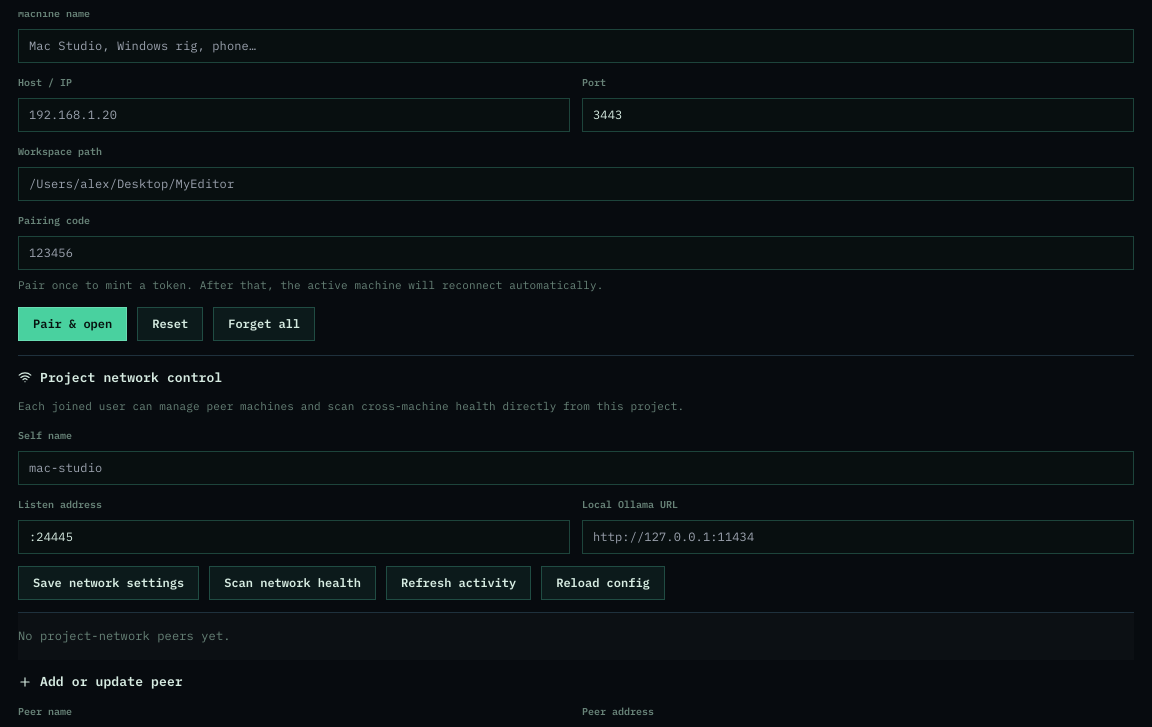
Test case: MachineConnectionsPanel workflows › CancelButton_DraftFormReset
(page scrolled)
Type "10.0.0.99" into the field with placeholder "192.168.1.20" at (294, 115), box [18,98,570,132]
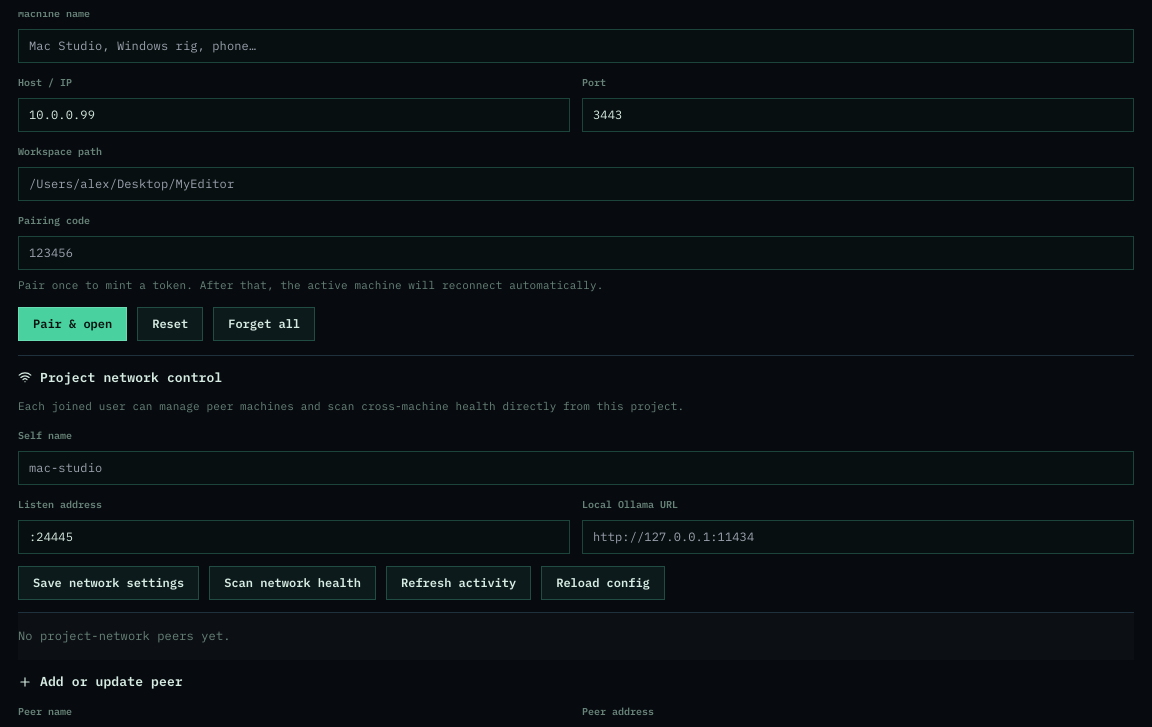
Click the button "Reset" at (170, 324), box [137,307,203,341]
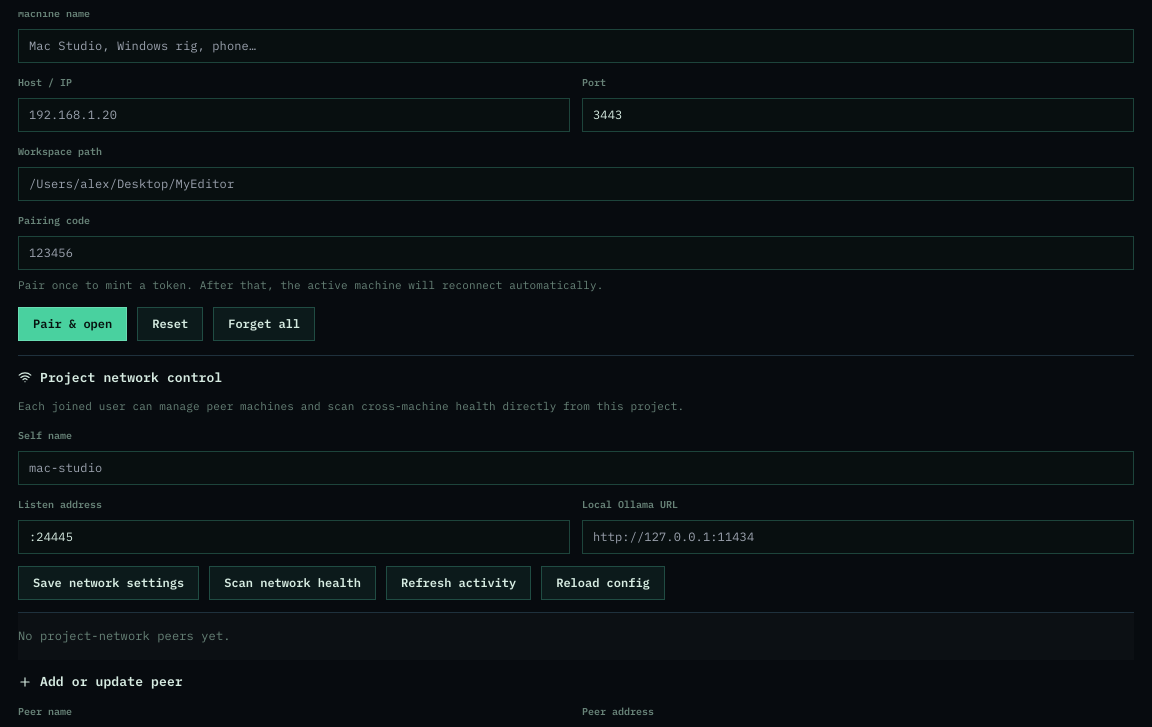
Expected: the field with placeholder "192.168.1.20" is empty, [18,98,570,132]
